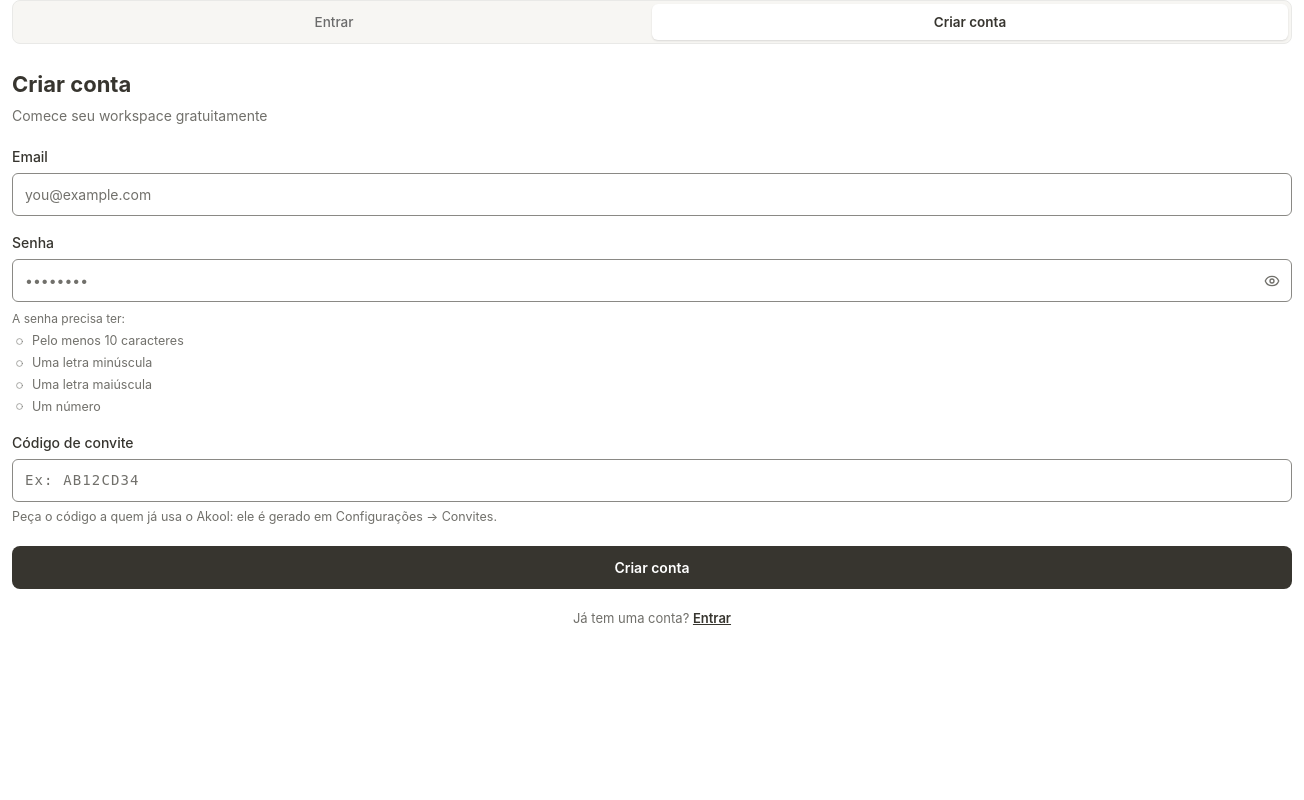
Scenario: AuthForm: cadastro › erro do servidor que não é do convite nem da senha vira aviso traduzido
This screenshot has width=1304, height=800.
Type "nova@example.com" into the field labelled "Email". click: point(652, 195)
box: [12,173,1292,216]
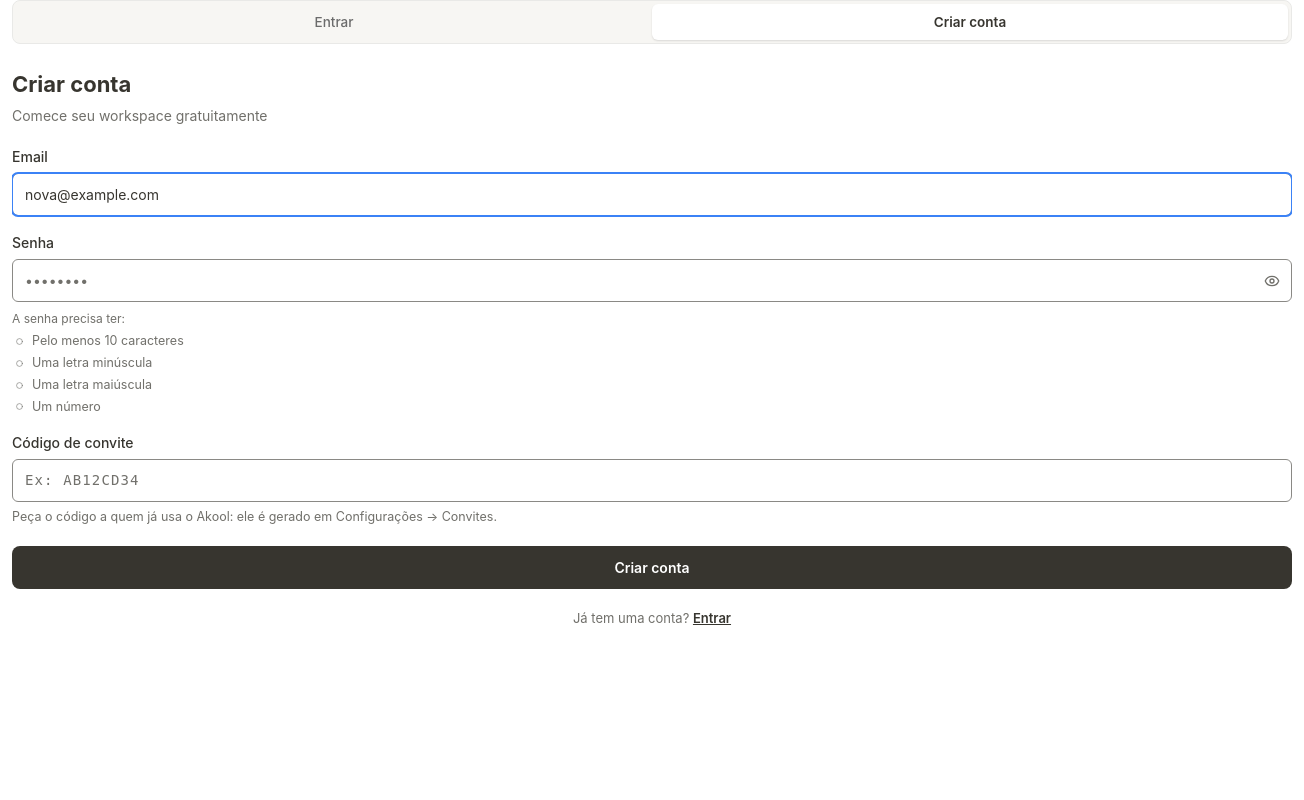
Type "Fict1ciaForte" into the password field labelled "Senha". click: point(652, 281)
box: [12,259,1292,302]
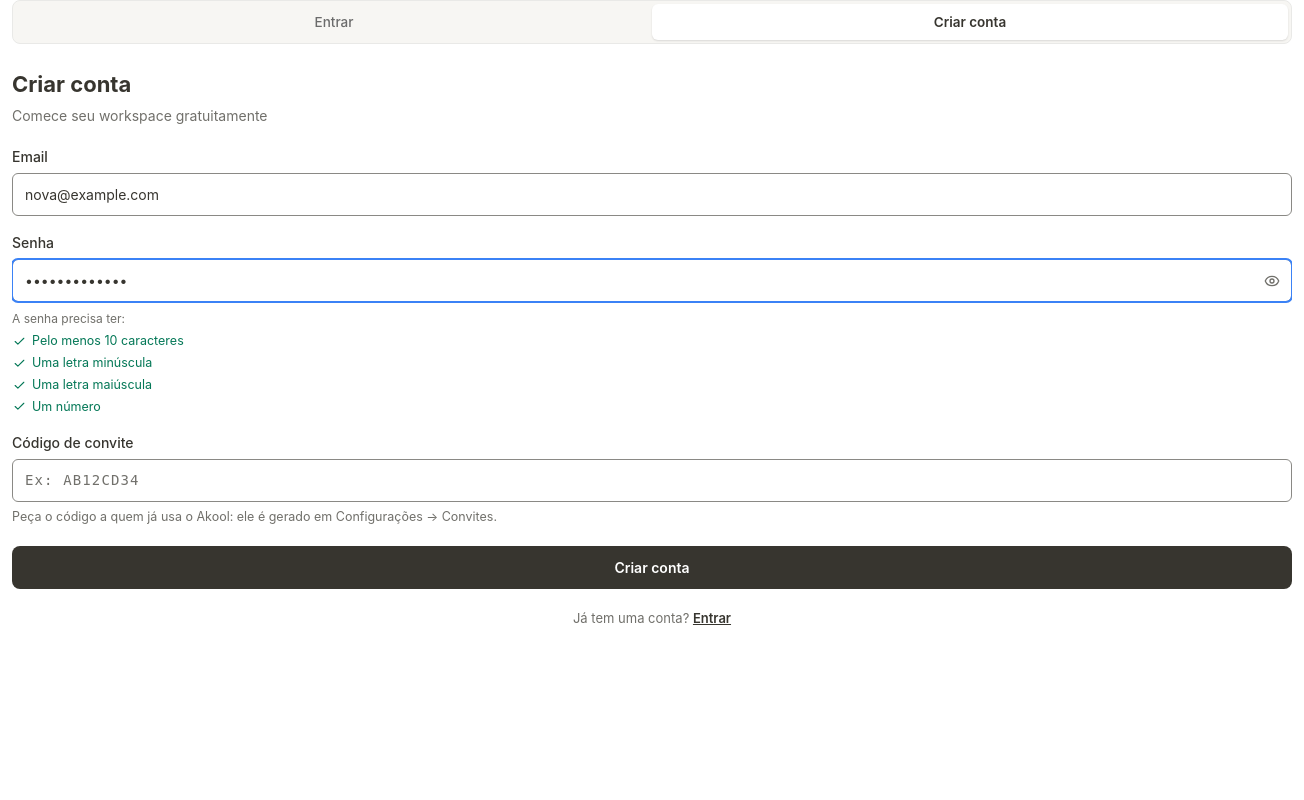
Type "abc123" into the field labelled "Código de convite". click: point(652, 481)
box: [12,459,1292,502]
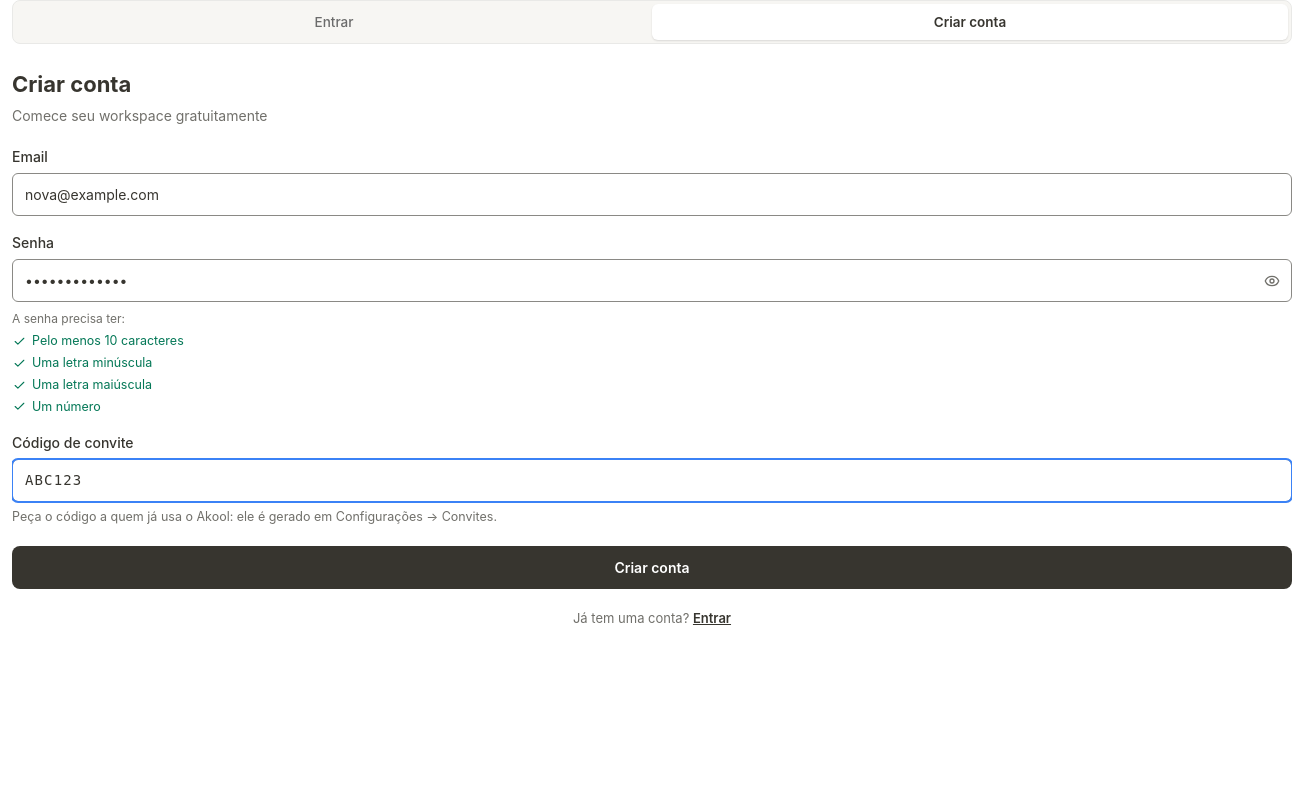
Press Enter
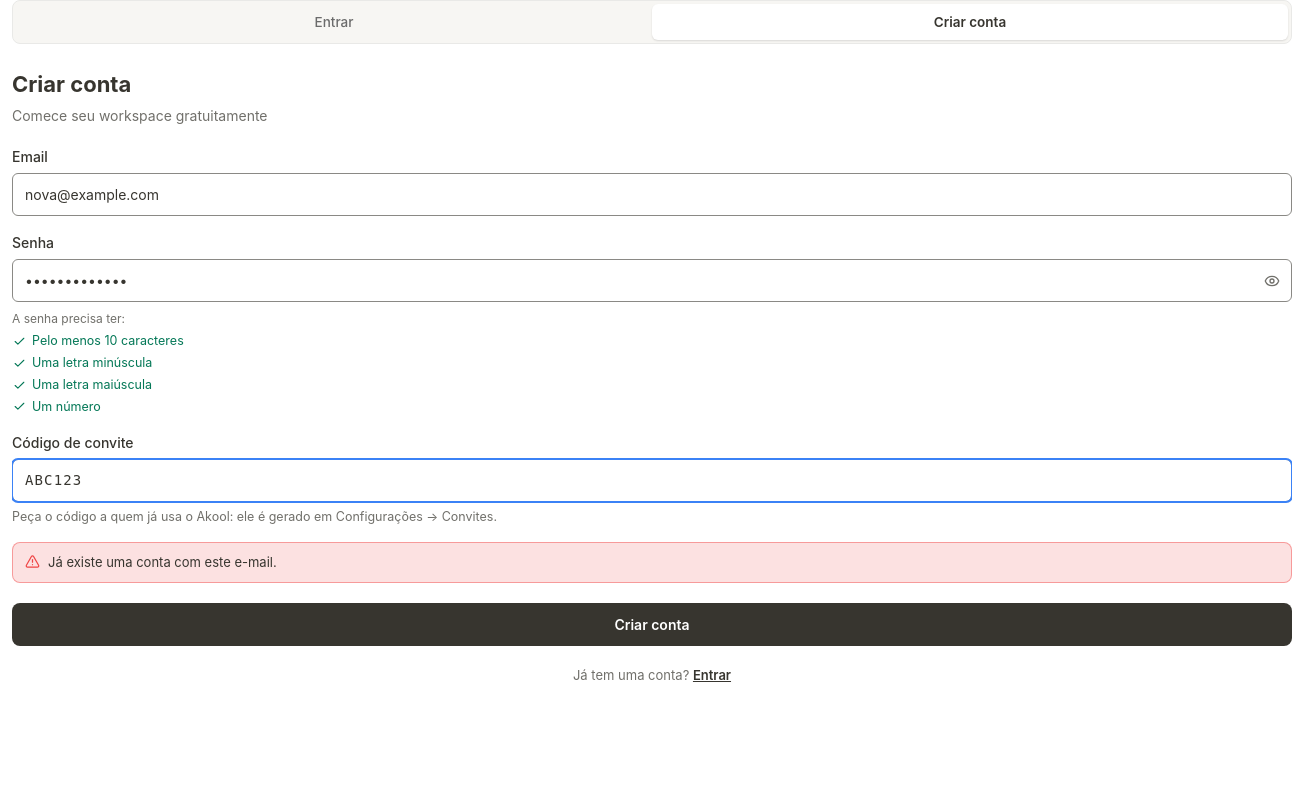
Expected: the message reads "Já existe uma conta com este e-mail.", [48,554,277,570]
